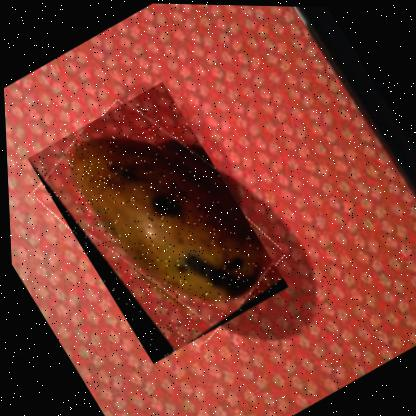mango_rotten: (24, 78, 291, 366)
